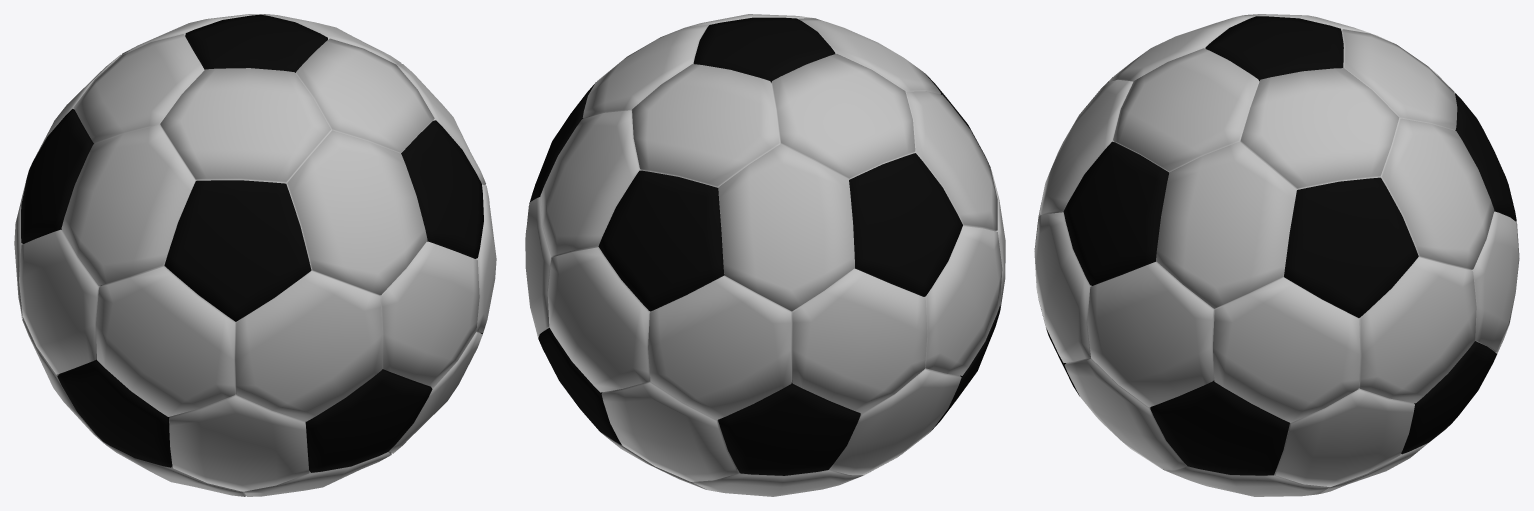
The model's file is SoccerBall.fbx.
The picture shows the model from 3 angles, left to right: view 1: azimuth 30°, elevation 25°; view 2: azimuth 150°, elevation 25°; view 3: azimuth 270°, elevation 25°; orthographic projection.
Parts seen in each view (by area): view 1: Ball; view 2: Ball; view 3: Ball.
Boxes of the visible parts, x1,y1,x2,y2 form: Ball: (14,14,496,496); Ball: (525,14,1005,496); Ball: (1034,14,1519,496).
Size of the model in its own units: 176 by 176 by 176.
